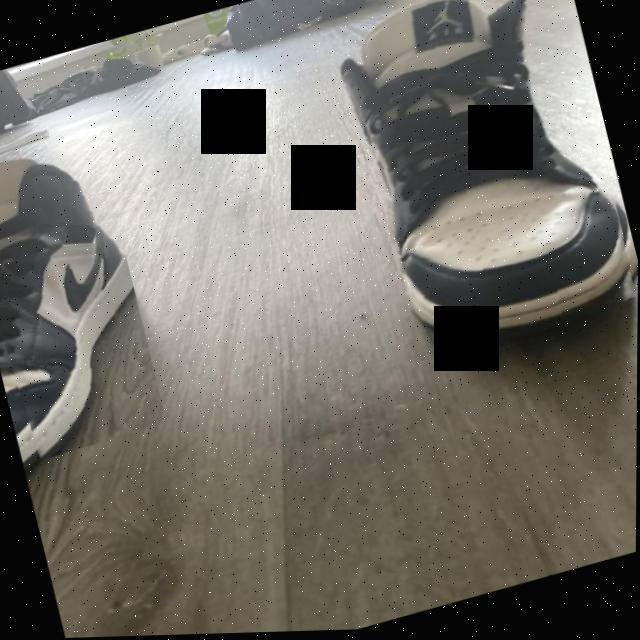shoe: (325, 0, 640, 367), (0, 131, 169, 465)
